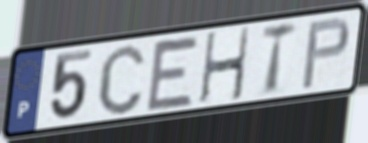5: (49, 49, 96, 123)
C: (95, 41, 148, 118)
E: (144, 34, 202, 114)
H: (198, 25, 252, 107)
P: (299, 14, 352, 92)
T: (259, 20, 299, 98)
